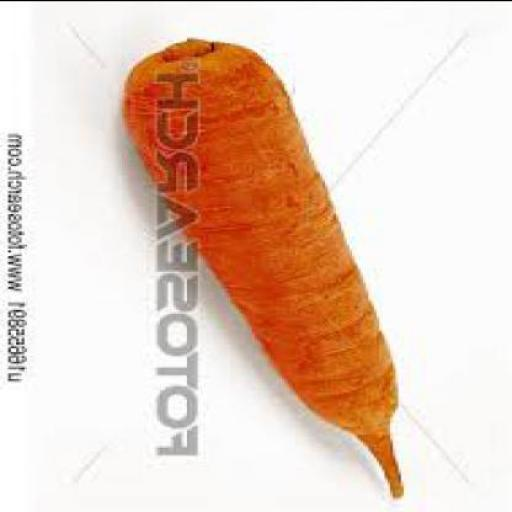biodegradable: (124, 40, 406, 500)
